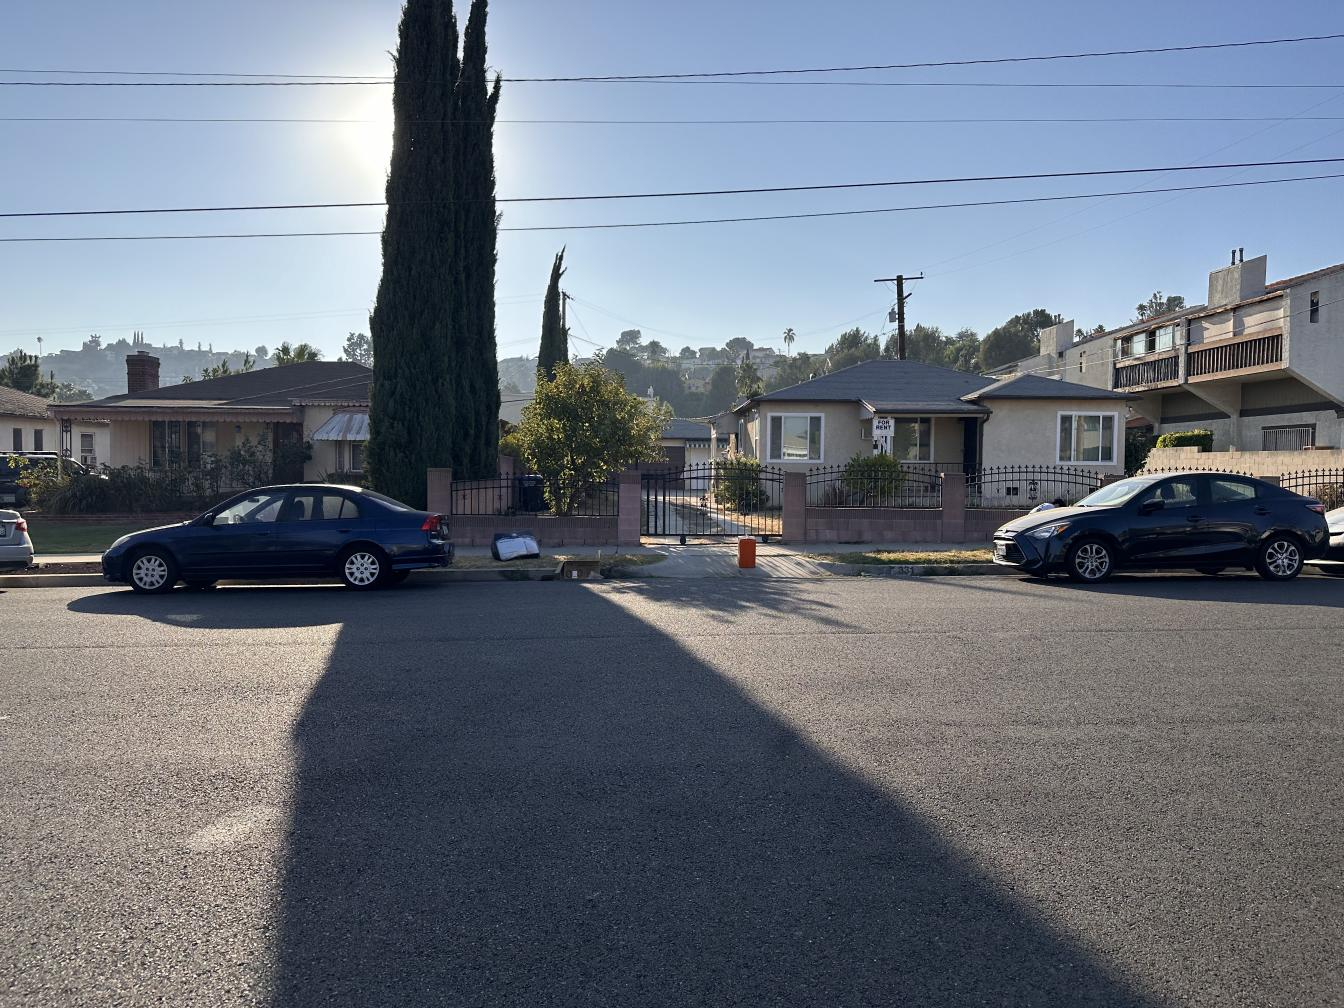curbs-laRr: (840, 560, 996, 579), (454, 568, 553, 581), (29, 572, 102, 589)
orange box: (738, 537, 758, 570)
